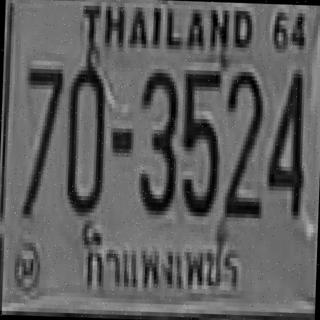N00: (59, 44, 118, 220)
N02: (220, 54, 274, 235)
N03: (134, 54, 184, 214)
N04: (259, 49, 315, 231)
N05: (175, 56, 232, 236)
N07: (14, 54, 65, 214)
P16: (72, 226, 264, 314)
